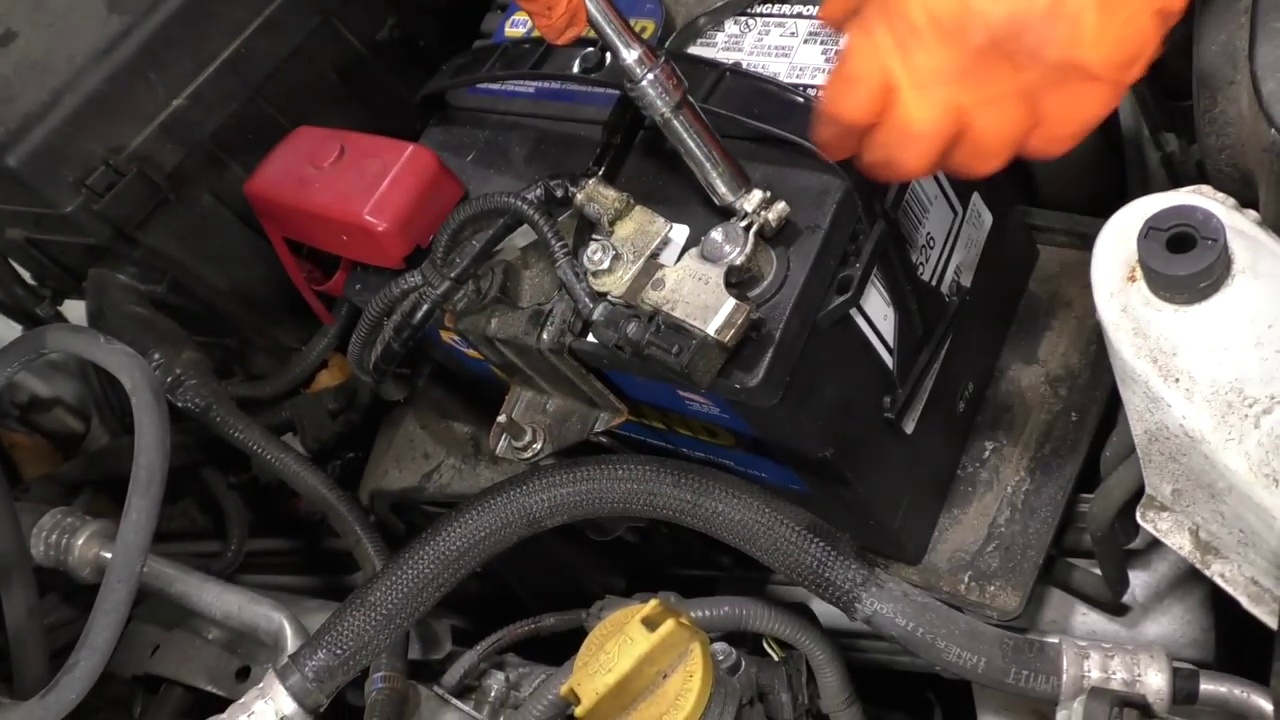battery: (354, 10, 875, 395)
neg_connected: (652, 191, 780, 374)
pos_connected: (225, 119, 486, 343)
